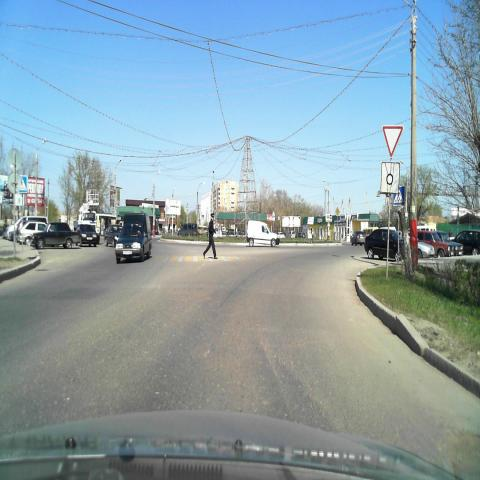5_19_1: (18, 176, 28, 194)
8_13_1: (381, 160, 399, 194)
